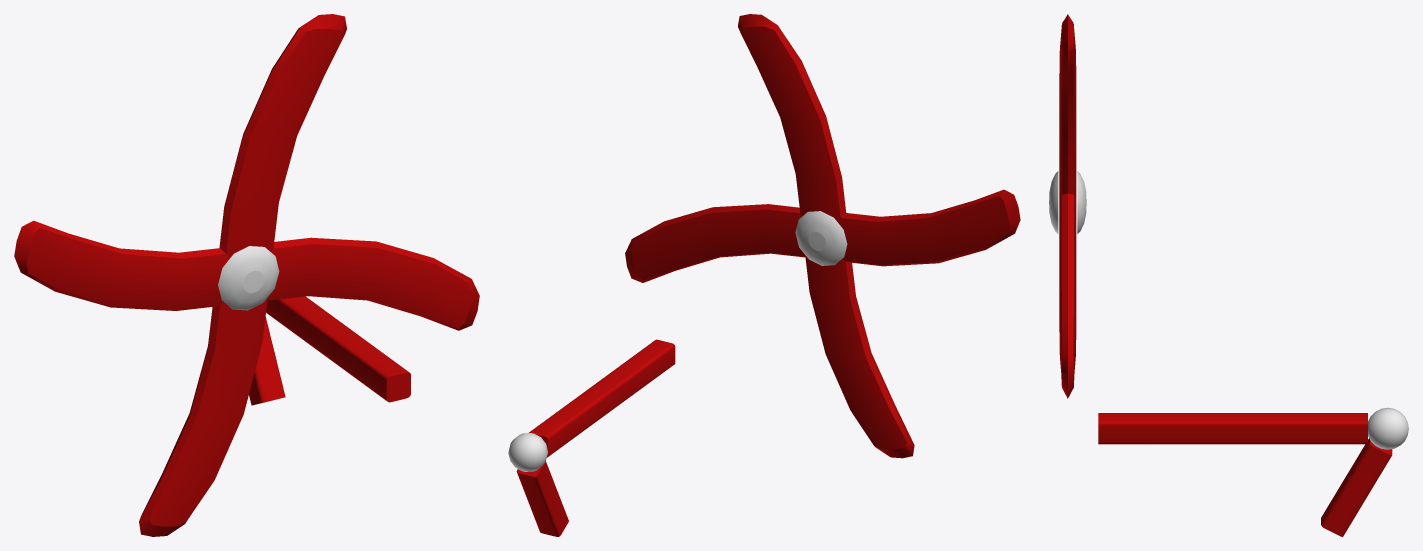
File: propeller_obstacle.fbx
3 views of the same model, side by side, from view 1: azimuth 30°, elevation 25°; view 2: azimuth 150°, elevation 25°; view 3: azimuth 270°, elevation 25° (orthographic). The views are drawn at different scales.
Parts seen in each view (by area): view 1: propeller_obstacle, propellerinteract_obstacle; view 2: propeller_obstacle, propellerinteract_obstacle; view 3: propellerinteract_obstacle, propeller_obstacle.
Part boxes in pixels (x1,y1,x2,y2): propeller_obstacle: [14, 14, 479, 536]; propellerinteract_obstacle: [249, 296, 410, 405]; propeller_obstacle: [625, 14, 1020, 458]; propellerinteract_obstacle: [508, 339, 675, 536]; propellerinteract_obstacle: [1098, 407, 1408, 536]; propeller_obstacle: [1049, 14, 1086, 398].
Size of the model in its own units: 158 by 170 by 118.
